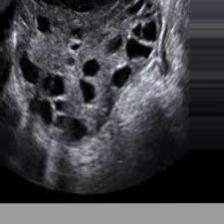pcos: (1, 1, 173, 145)
